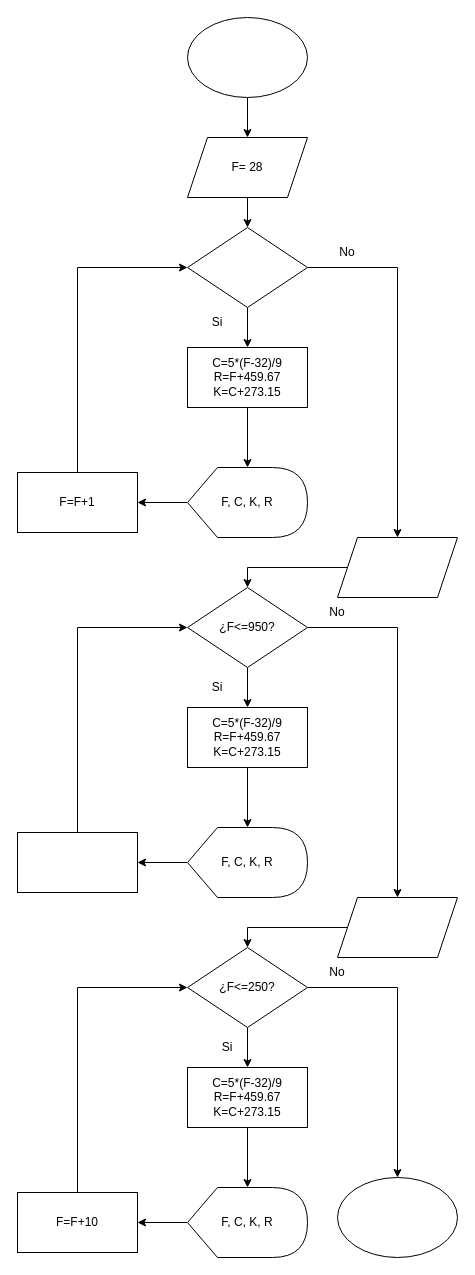
Image size: 475x1275. Some labels were removed from this diagram. Each missing label, with the box of its shape:
F= -50: (336, 896, 458, 958)
F= 450: (336, 536, 458, 598)
F=F+50: (16, 832, 138, 892)
Fin: (336, 1176, 458, 1258)
Inicio: (186, 16, 308, 98)
¿F<=54?: (186, 226, 308, 308)
